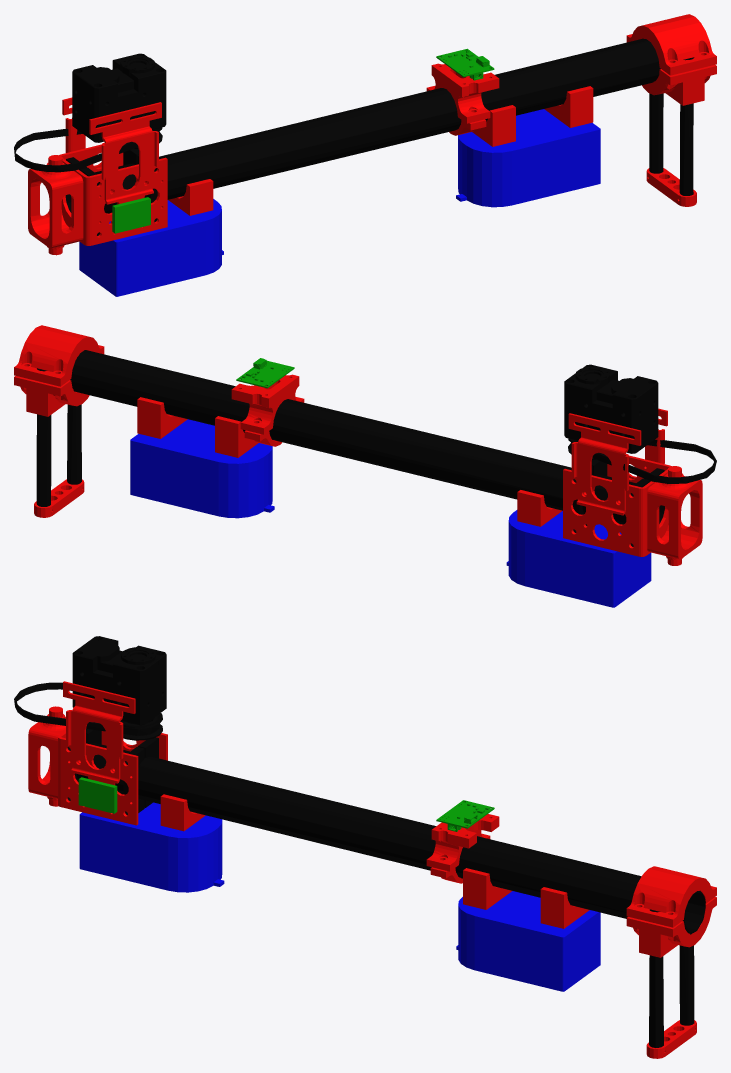
File: ducted_fan_end_link.dae
The picture shows the model from 3 angles, top to bottom: view 1: azimuth 30°, elevation 25°; view 2: azimuth 150°, elevation 25°; view 3: azimuth 330°, elevation 25°; orthographic projection.
Visible parts, largest first — view 1: Red, Black_Nonmetal, Blue, Black_Metal, Green; view 2: Red, Black_Nonmetal, Blue, Black_Metal, Green; view 3: Black_Nonmetal, Red, Blue, Black_Metal, Green.
Boxes of the visible parts, <box> form: Red: <box>28,14,716,255</box>; Black_Nonmetal: <box>14,38,693,213</box>; Blue: <box>79,109,600,296</box>; Black_Metal: <box>66,53,166,235</box>; Green: <box>112,48,494,233</box>; Red: <box>14,325,702,565</box>; Black_Nonmetal: <box>36,350,716,524</box>; Blue: <box>130,419,651,607</box>; Black_Metal: <box>564,364,664,546</box>; Green: <box>236,358,294,388</box>; Black_Nonmetal: <box>14,682,705,1047</box>; Red: <box>28,681,716,1058</box>; Blue: <box>79,802,600,991</box>; Black_Metal: <box>67,636,166,815</box>; Green: <box>78,777,494,831</box>.
Size of the model in its own units: 0.4355 by 0.049 by 0.1595.
